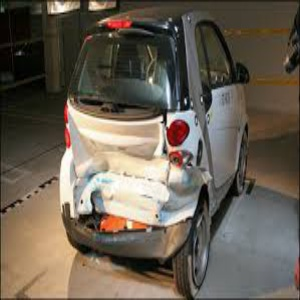bumper: (67, 203, 188, 259)
